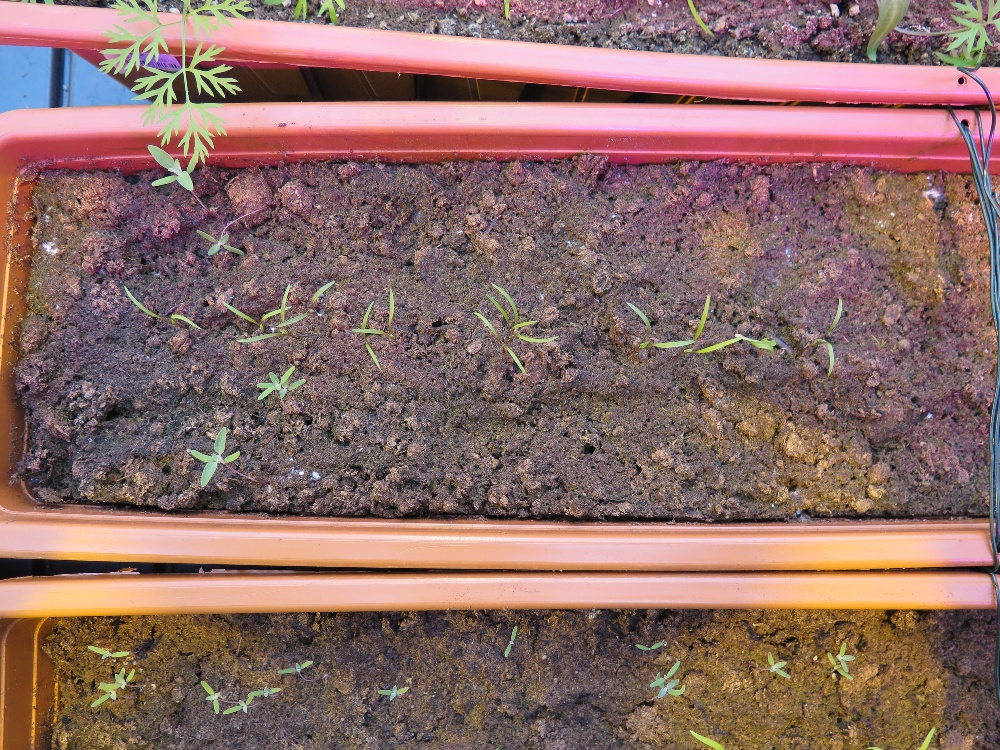crop: (100, 1, 264, 161), (462, 261, 566, 404), (668, 279, 773, 372), (471, 272, 566, 367), (775, 292, 864, 388), (337, 276, 414, 379), (873, 1, 1000, 58), (605, 297, 698, 374), (212, 292, 314, 361), (121, 281, 196, 347), (257, 279, 325, 345), (877, 715, 943, 750), (671, 724, 746, 750)
weed: (184, 420, 259, 499), (134, 136, 225, 201), (248, 351, 316, 406), (641, 656, 696, 711), (82, 670, 155, 711), (366, 667, 421, 708), (191, 674, 232, 724), (282, 651, 334, 690), (193, 224, 252, 258), (232, 674, 280, 715), (82, 636, 137, 670), (821, 642, 857, 692), (769, 642, 807, 685), (496, 620, 527, 665), (639, 629, 668, 663)
